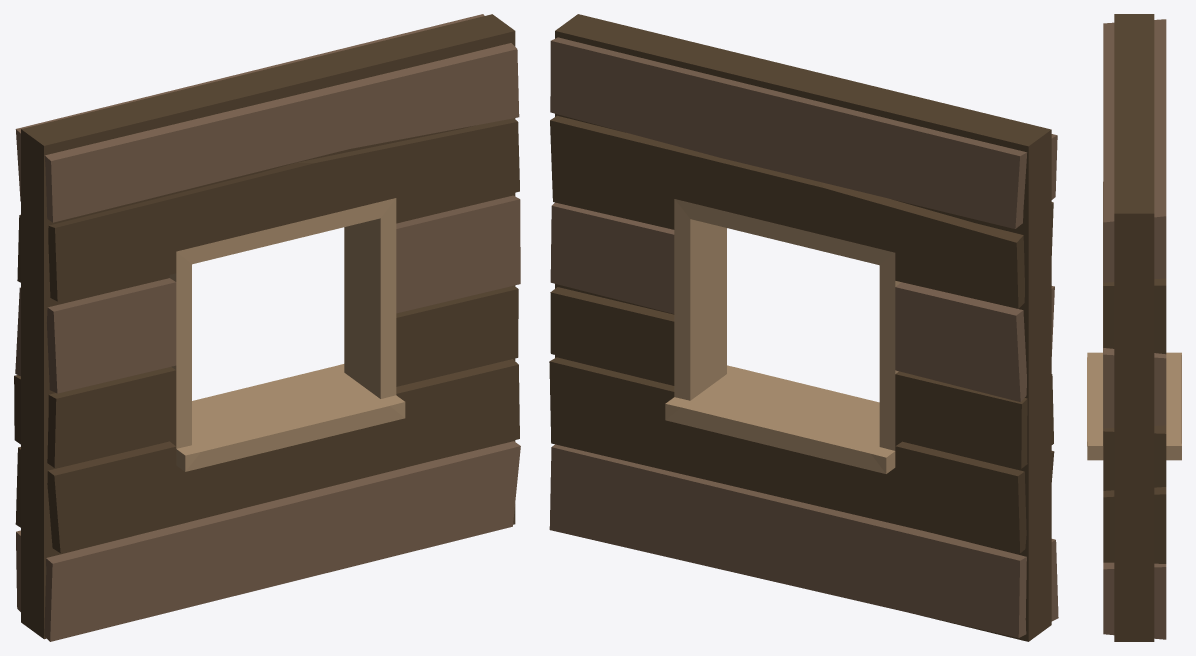
The model's file is enchantedforest_wall_wood_window_2.fbx.
The picture shows the model from 3 angles, left to right: view 1: azimuth 30°, elevation 25°; view 2: azimuth 150°, elevation 25°; view 3: azimuth 270°, elevation 25°; orthographic projection. The views are drawn at different scales.
Parts seen in each view (by area): view 1: Cube.013; view 2: Cube.013; view 3: Cube.013.
Part boxes in pixels (box(x1,y1,x2,y2)): Cube.013: box(14, 14, 520, 641); Cube.013: box(549, 14, 1058, 641); Cube.013: box(1087, 14, 1181, 641).
Bounding box in the file's own units: 3 × 3 × 0.6028.
